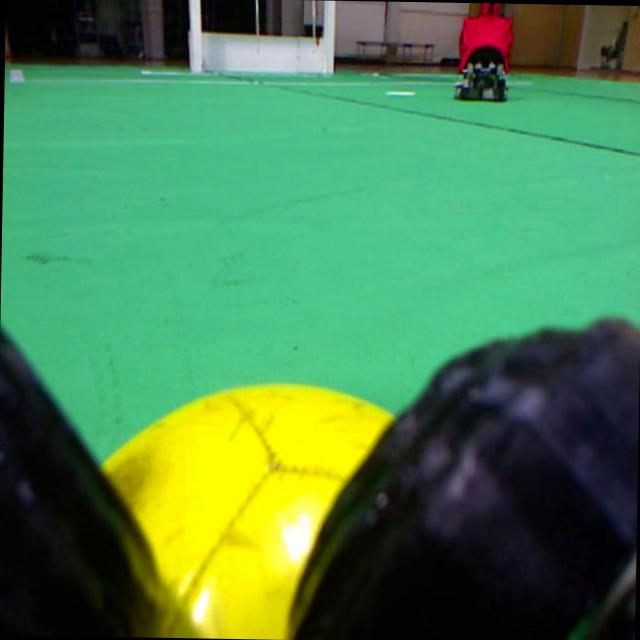ball: (102, 384, 391, 637)
goal: (188, 0, 202, 71), (322, 0, 335, 72)
